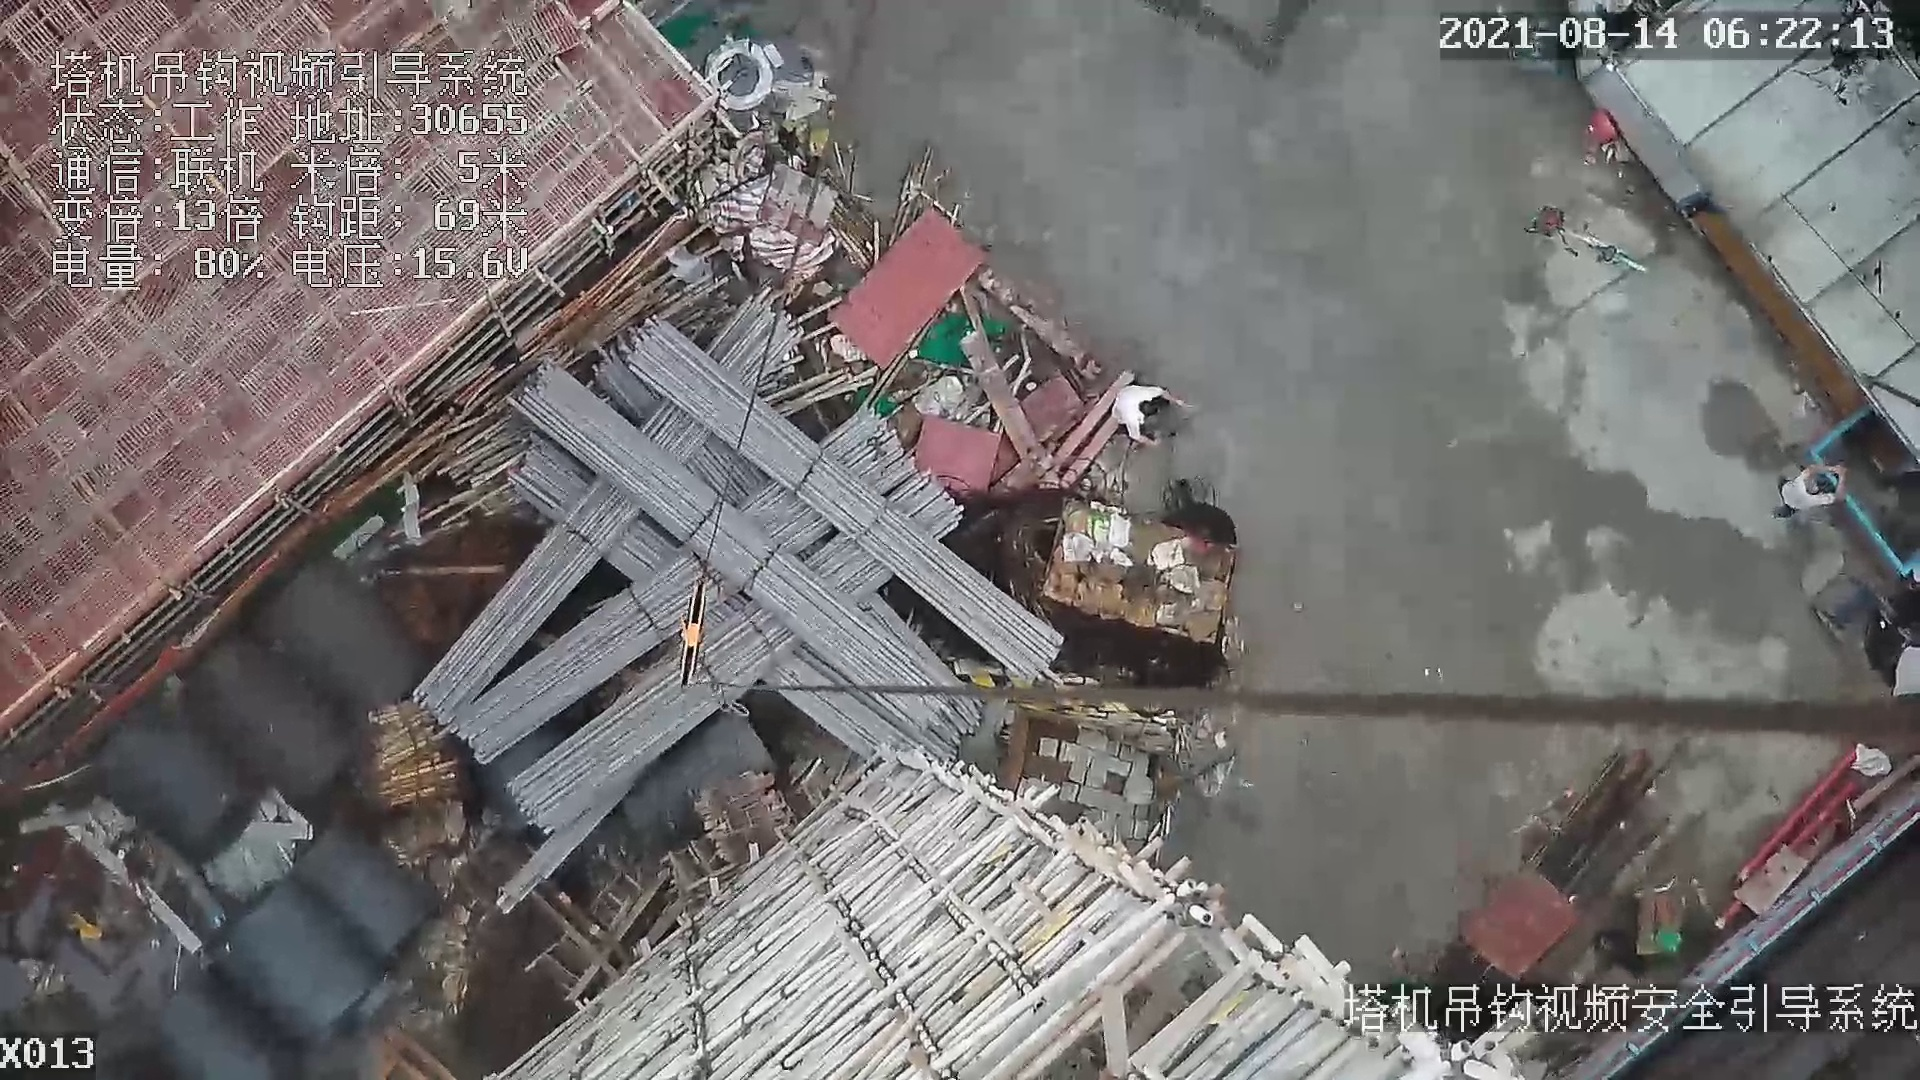hook: (679, 580, 708, 687)
person: (1113, 368, 1200, 450)
scaffold: (442, 339, 1062, 790), (356, 695, 463, 812)
